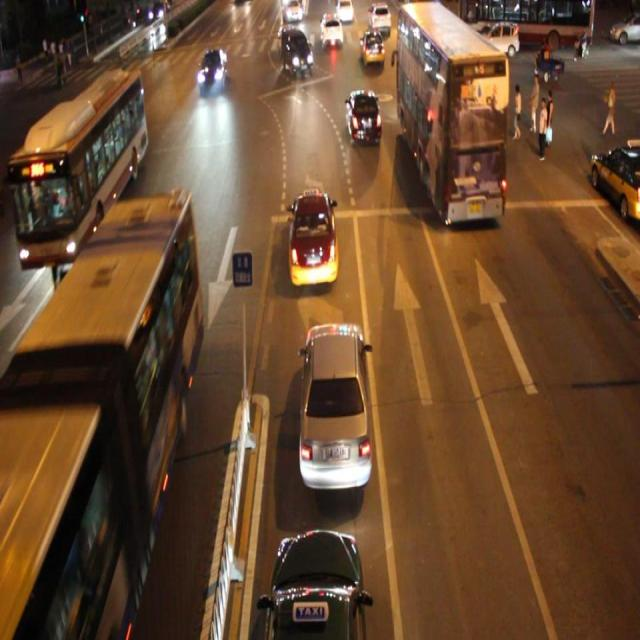car: (260, 526, 367, 640), (299, 323, 372, 488), (287, 188, 339, 284), (26, 129, 61, 191), (346, 90, 382, 146), (280, 28, 314, 75), (198, 48, 228, 92), (319, 12, 344, 48), (360, 30, 384, 66)
van: (1, 194, 202, 640), (10, 70, 145, 265), (396, 1, 505, 221)
